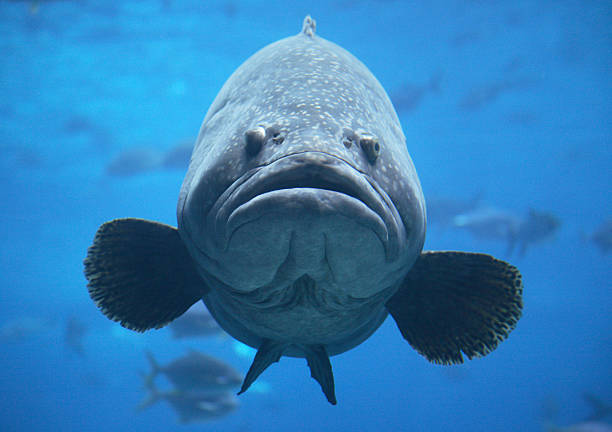Fish: (152, 38, 442, 359)
